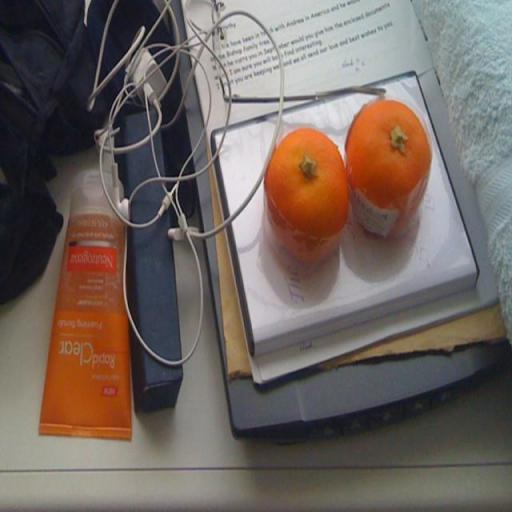fruit: (346, 100, 431, 235), (264, 128, 348, 263)
